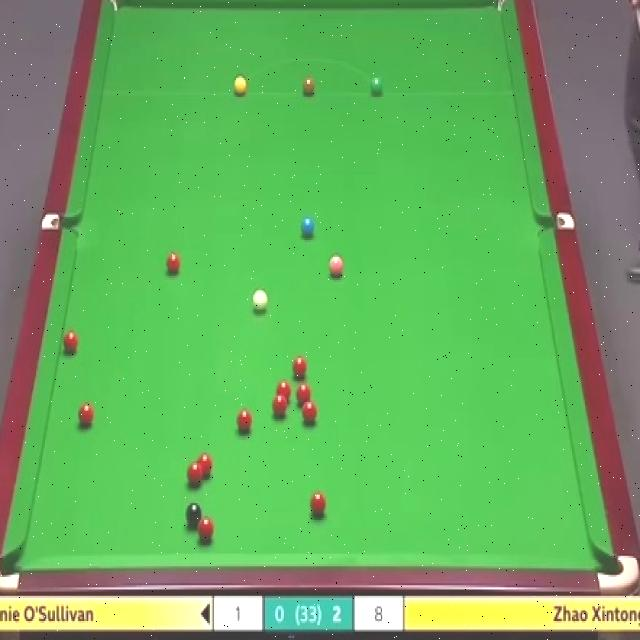black-ball: (185, 502, 202, 528)
blue-ball: (300, 214, 316, 240)
brown-ball: (302, 77, 316, 98)
green-ball: (368, 76, 382, 98)
pink-ball: (327, 250, 347, 280)
red-ball: (197, 516, 216, 545), (77, 400, 94, 430), (61, 328, 79, 356), (185, 462, 204, 488), (237, 410, 254, 436), (309, 492, 326, 518), (165, 251, 182, 275), (271, 395, 288, 419), (292, 356, 308, 380), (275, 380, 292, 402), (198, 452, 214, 475), (302, 400, 317, 424), (295, 383, 312, 404)
white-ball: (251, 288, 268, 316)
yellow-ball: (234, 75, 248, 97)
